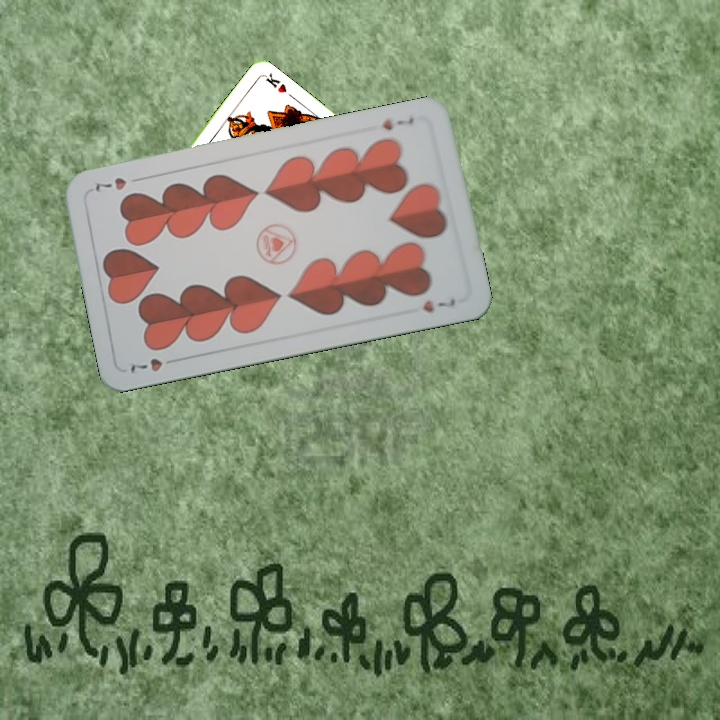H7: (126, 353, 182, 376), (379, 113, 417, 133)
